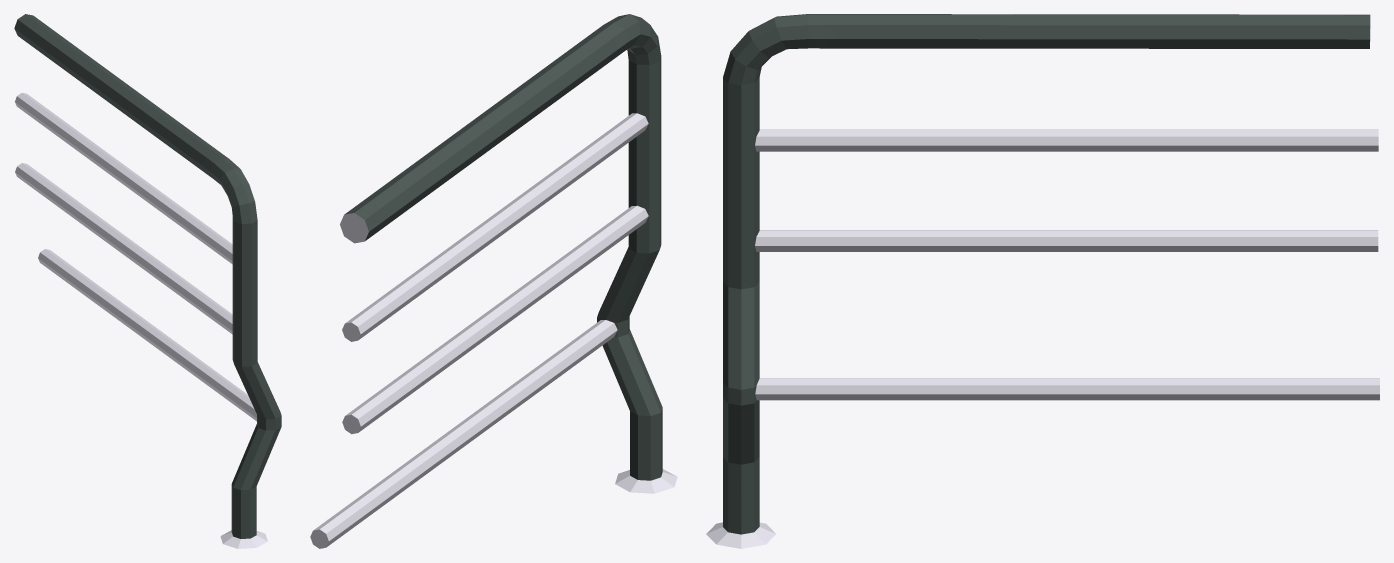
File: R Fences.fbx
The picture shows the model from 3 angles, left to right: view 1: azimuth 30°, elevation 25°; view 2: azimuth 150°, elevation 25°; view 3: azimuth 270°, elevation 25°; orthographic projection. The views are drawn at different scales.
Visible parts, largest first — view 1: Fences Left Sides; view 2: Fences Left Sides; view 3: Fences Left Sides.
Boxes of the visible parts, bbox=[...] form: Fences Left Sides: bbox=[14, 14, 281, 548]; Fences Left Sides: bbox=[310, 14, 677, 548]; Fences Left Sides: bbox=[706, 14, 1379, 548].
Size of the model in its own units: 29.39 by 178 by 209.
